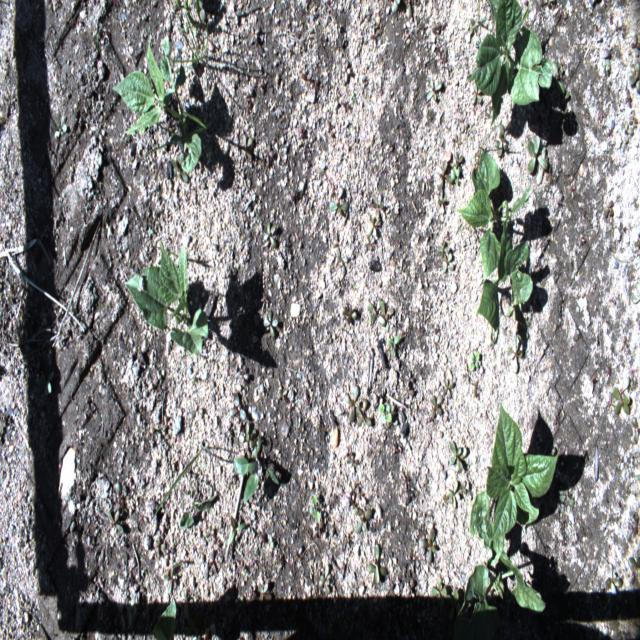crop: (470, 402, 560, 565), (112, 38, 207, 173), (467, 0, 552, 126), (124, 239, 210, 357), (456, 150, 531, 284), (458, 546, 546, 627), (476, 218, 532, 344), (153, 598, 177, 639), (108, 508, 124, 534)
weed: (149, 444, 237, 523), (234, 435, 278, 503), (169, 1, 208, 64), (180, 495, 218, 528), (366, 541, 386, 584), (527, 134, 547, 174), (603, 562, 623, 602), (552, 60, 569, 100), (507, 335, 523, 373), (239, 424, 255, 461), (329, 185, 349, 213), (164, 560, 180, 594), (449, 442, 466, 474), (436, 160, 453, 192), (228, 514, 246, 544), (354, 398, 372, 428), (345, 386, 360, 421), (421, 528, 436, 563), (170, 154, 188, 183), (354, 506, 372, 535), (612, 387, 630, 415), (229, 392, 247, 420), (368, 298, 386, 326), (474, 0, 489, 31), (430, 575, 447, 602), (35, 371, 54, 395), (494, 123, 507, 157), (263, 219, 278, 248), (263, 309, 278, 338), (380, 301, 394, 330), (318, 565, 332, 593), (366, 214, 381, 240), (536, 146, 546, 184), (53, 112, 67, 139), (558, 484, 574, 506), (629, 62, 640, 94), (448, 481, 460, 510), (426, 80, 442, 101), (628, 556, 640, 584), (430, 394, 443, 419), (308, 495, 320, 522), (342, 304, 357, 325), (378, 404, 392, 426), (257, 582, 271, 604), (372, 194, 383, 222), (388, 333, 400, 358), (242, 133, 253, 160), (621, 121, 633, 143), (619, 378, 630, 401), (466, 17, 476, 42), (153, 538, 165, 558), (441, 252, 453, 272), (472, 82, 482, 106), (506, 304, 521, 320), (517, 323, 528, 344), (263, 144, 273, 167), (128, 598, 136, 626), (443, 379, 454, 399), (194, 1, 205, 20), (444, 587, 460, 600), (438, 240, 449, 258), (459, 110, 468, 132), (189, 404, 203, 418), (346, 454, 360, 468), (438, 187, 445, 215), (632, 416, 639, 444), (163, 119, 173, 138), (604, 199, 614, 218), (341, 61, 350, 82), (337, 257, 348, 274), (632, 34, 640, 57), (334, 232, 341, 258), (470, 351, 479, 371), (454, 152, 463, 172), (450, 165, 460, 183), (364, 234, 374, 251), (456, 481, 466, 498), (236, 369, 248, 383), (404, 372, 414, 388), (521, 314, 531, 330), (632, 283, 640, 303), (204, 525, 214, 540), (402, 386, 414, 398), (629, 111, 638, 127), (452, 134, 462, 147), (404, 0, 411, 18), (558, 58, 566, 72), (391, 0, 400, 12), (605, 59, 610, 73), (352, 92, 356, 104), (635, 474, 640, 480)
